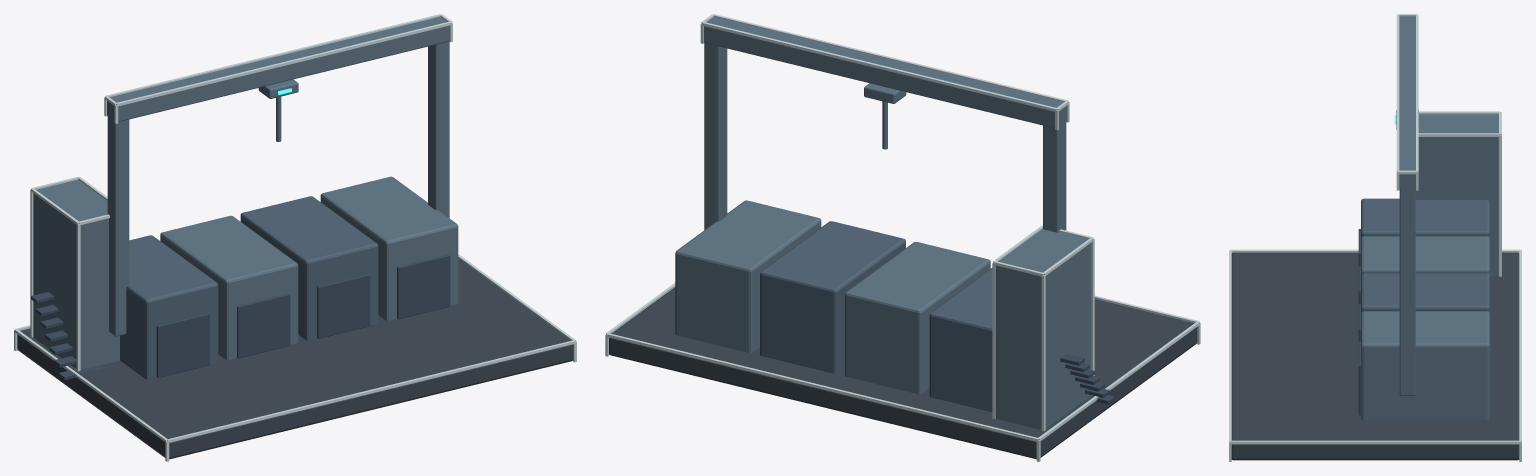
File: skill-docker-v1.glb
3 renders of one model, left to right at view 1: azimuth 30°, elevation 25°; view 2: azimuth 150°, elevation 25°; view 3: azimuth 270°, elevation 25°, orthographic. The views are drawn at different scales.
Visible parts, largest first — view 1: skill-docker-v1__mesh-structure-mid__001, skill-docker-v1__mesh-ground__001, skill-docker-v1__mesh-structure-dark__001, skill-docker-v1__mesh-roof__001, skill-docker-v1__technical-lines__001; view 2: skill-docker-v1__mesh-structure-mid__001, skill-docker-v1__mesh-ground__001, skill-docker-v1__mesh-structure-dark__001, skill-docker-v1__technical-lines__001, skill-docker-v1__mesh-roof__001; view 3: skill-docker-v1__mesh-ground__001, skill-docker-v1__mesh-structure-mid__001, skill-docker-v1__mesh-structure-dark__001, skill-docker-v1__technical-lines__001, skill-docker-v1__mesh-roof__001.
Boxes of the visible parts, x1=… form: skill-docker-v1__mesh-structure-mid__001: x1=33, y1=16, x2=458, y2=369; skill-docker-v1__mesh-ground__001: x1=17, y1=258, x2=573, y2=459; skill-docker-v1__mesh-structure-dark__001: x1=120, y1=196, x2=378, y2=379; skill-docker-v1__mesh-roof__001: x1=31, y1=254, x2=450, y2=380; skill-docker-v1__technical-lines__001: x1=14, y1=14, x2=576, y2=461; skill-docker-v1__mesh-structure-mid__001: x1=675, y1=17, x2=1091, y2=429; skill-docker-v1__mesh-ground__001: x1=609, y1=287, x2=1197, y2=459; skill-docker-v1__mesh-structure-dark__001: x1=760, y1=221, x2=992, y2=412; skill-docker-v1__technical-lines__001: x1=605, y1=14, x2=1200, y2=461; skill-docker-v1__mesh-roof__001: x1=1060, y1=353, x2=1114, y2=404; skill-docker-v1__mesh-ground__001: x1=1231, y1=252, x2=1519, y2=460; skill-docker-v1__mesh-structure-mid__001: x1=1361, y1=16, x2=1498, y2=420; skill-docker-v1__mesh-structure-dark__001: x1=1361, y1=198, x2=1489, y2=312; skill-docker-v1__technical-lines__001: x1=1229, y1=14, x2=1521, y2=461; skill-docker-v1__mesh-roof__001: x1=1358, y1=229, x2=1360, y2=415.
Size of the model in its own units: 28.88 by 18.69 by 18.17.
